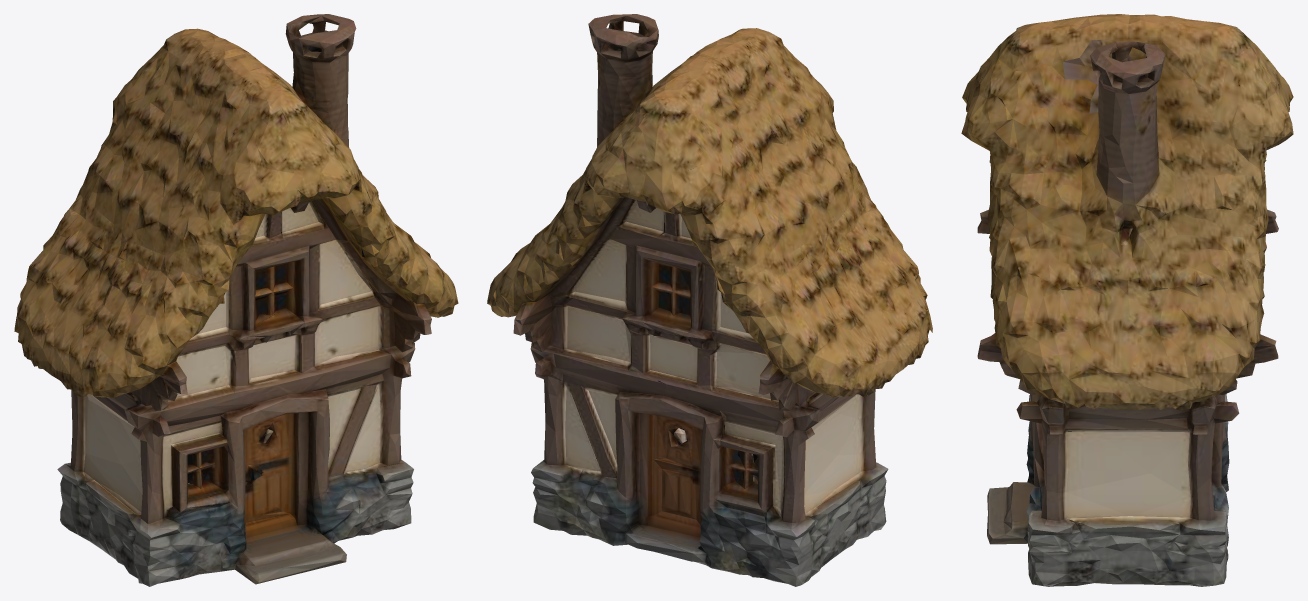
File: house_straw_thatch_lod0.glb
The picture shows the model from 3 angles, left to right: view 1: azimuth 30°, elevation 25°; view 2: azimuth 150°, elevation 25°; view 3: azimuth 270°, elevation 25°; orthographic projection. The views are drawn at different scales.
Parts seen in each view (by area): view 1: house_straw_thatch_lod0; view 2: house_straw_thatch_lod0; view 3: house_straw_thatch_lod0.
Part boxes in pixels (<box>): house_straw_thatch_lod0: <box>14,14,458,586</box>; house_straw_thatch_lod0: <box>487,14,932,586</box>; house_straw_thatch_lod0: <box>961,14,1293,586</box>.
Size of the model in its own units: 5.76 by 6.99 by 4.11.
Materials: 1 (1 with a texture image).
